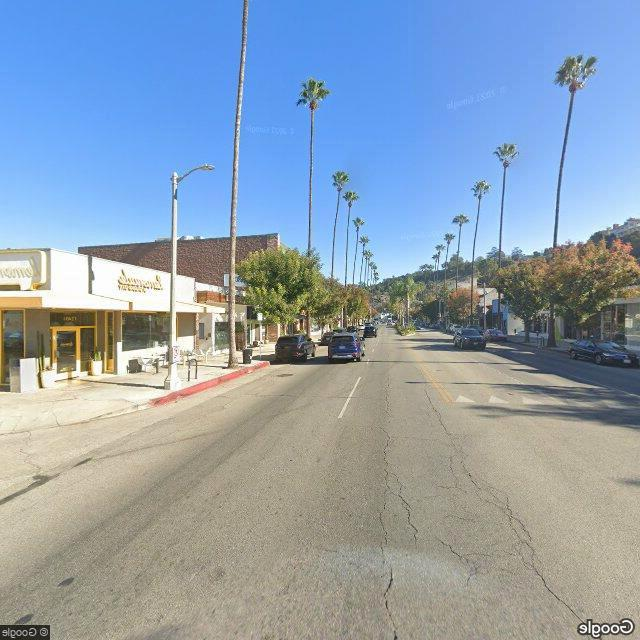crack: (365, 417, 557, 629)
